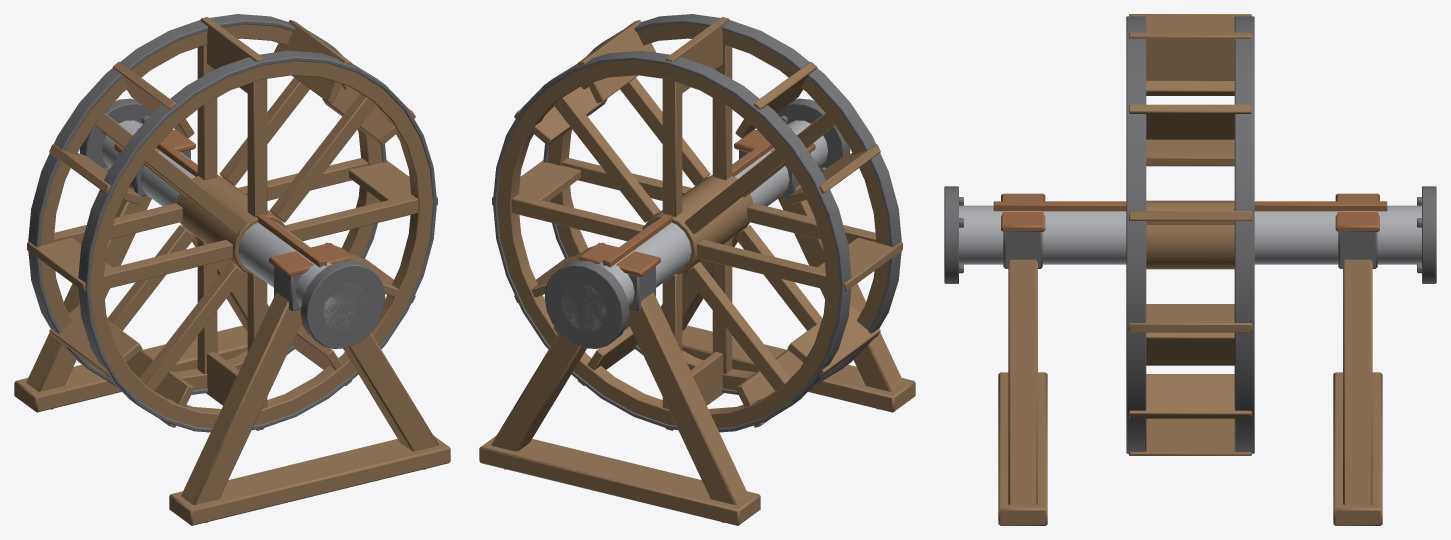
The model's file is feWaterWheel.fbx.
3 views of the same model, side by side, from view 1: azimuth 30°, elevation 25°; view 2: azimuth 150°, elevation 25°; view 3: azimuth 270°, elevation 25° (orthographic). The views are drawn at different scales.
Parts seen in each view (by area): view 1: FeSpin_WaterWheel, feWaterWheel_Base; view 2: FeSpin_WaterWheel, feWaterWheel_Base; view 3: FeSpin_WaterWheel, feWaterWheel_Base.
Boxes of the visible parts, x1,y1,x2,y2 form: FeSpin_WaterWheel: (27, 14, 437, 432); feWaterWheel_Base: (14, 129, 450, 525); FeSpin_WaterWheel: (492, 14, 902, 432); feWaterWheel_Base: (479, 129, 915, 525); FeSpin_WaterWheel: (944, 14, 1436, 455); feWaterWheel_Base: (998, 193, 1382, 525).
Bounding box in the file's own units: 0.9 × 0.9626 × 1.
